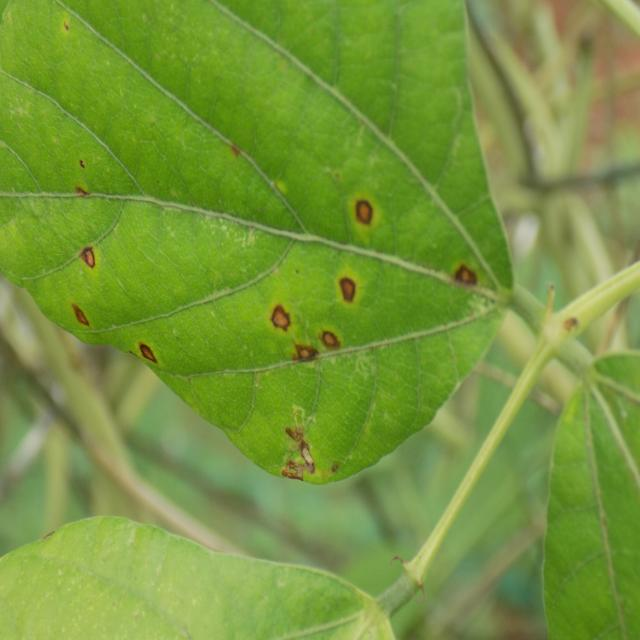Dolicos bean_cercospora leaf spot: (0, 0, 512, 481)
